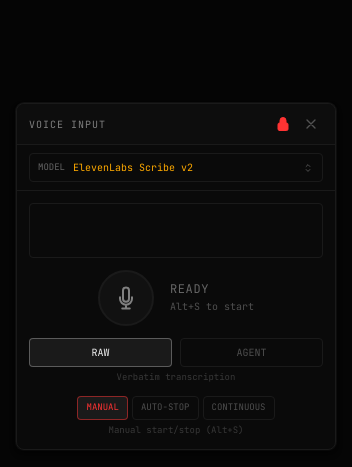
Test: voice overlay real-time setup › cancels real-time capture when visualization setup fails
The width and height of the screenshot is (352, 467).
Click the 4th button: (126, 298) [98,270,154,326]
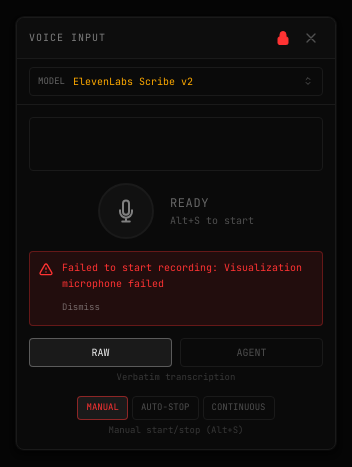
Expected: the text "Failed to start recording: Visualization microphone failed" is shown, [62,260,314,292]
